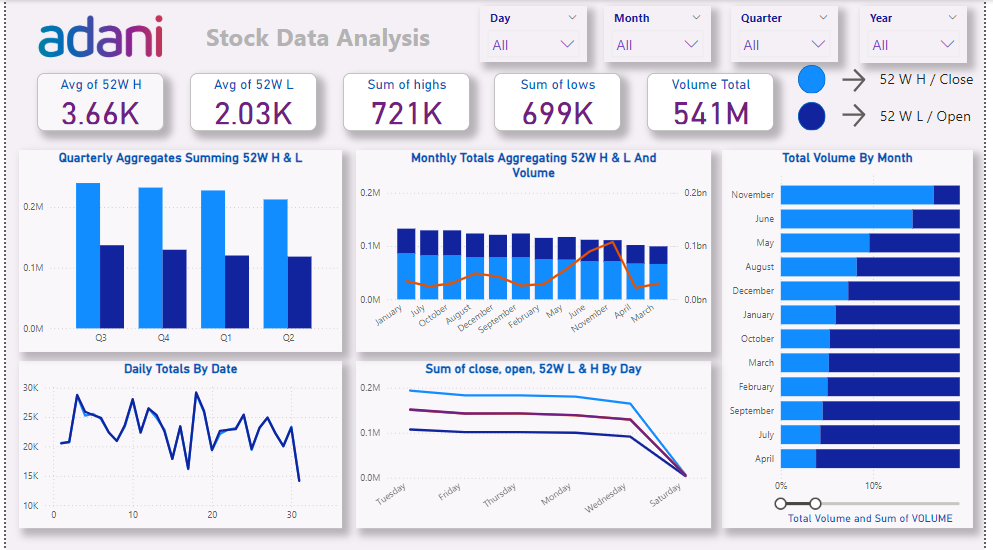

What the dashboard file says about the page in this screenshot:
{"tool":"powerbi","page":{"name":"Adani Dashboard","canvas":[1280,720],"ordinal":0},"visuals":[{"type":"slicer","fields":{"Values":["Modified Adani.Day"]},"box":[620.6,7.2,139.7,73.4],"z":0},{"type":"slicer","fields":{"Values":["Modified Adani.Month"]},"box":[783.4,7.2,139.7,73.4],"z":1000},{"type":"slicer","fields":{"Values":["Modified Adani.Quarter"]},"box":[949,7.2,139.7,73.4],"z":2000},{"type":"slicer","fields":{"Values":["Modified Adani.Year"]},"box":[1117.4,7.2,140,74],"z":3000},{"type":"card","title":"Avg of 52W H","fields":{"Values":["Meaures.Avg of 52 week high"]},"box":[40.3,95,165.6,76.3],"z":4000},{"type":"card","title":"Avg of 52W L","fields":{"Values":["Meaures.Avg of 52W low"]},"box":[240.5,95,165.6,76.3],"z":5000},{"type":"card","title":"Sum of highs","fields":{"Values":["Meaures.Sum Of Highs"]},"box":[440.6,95,165.6,76.3],"z":6000},{"type":"card","title":"Sum of lows","fields":{"Values":["Meaures.Sum Of Lows"]},"box":[639.4,95,165.6,76.3],"z":7000},{"type":"card","title":"Volume Total","fields":{"Values":["Meaures.Total Volume"]},"box":[839.5,95,165.6,76.3],"z":8000},{"type":"clusteredColumnChart","title":"Quarterly Aggregates Summing 52W H & L","fields":{"Category":["Meaures.Quarter"],"Y":["Sum(Meaures.52W H )","Sum(Meaures.52W L )"]},"box":[17.3,195.8,423.4,263.5],"z":9000},{"type":"lineStackedColumnComboChart","title":"Monthly Totals Aggregating 52W H & L And Volume ","fields":{"Y":["Sum(Modified Adani.52W H )","Sum(Modified Adani.52W L )"],"Y2":["Meaures.Total Volume"],"Category":["Modified Adani.Month"]},"box":[457.9,195.8,465.1,263.5],"z":10000},{"type":"image","box":[36,0,174.2,95],"z":11000},{"type":"textbox","box":[174.2,20.2,433.4,64.8],"z":12000},{"type":"lineChart","title":"Daily Totals By Date","fields":{"Y":["Sum(Modified Adani.close )","Sum(Modified Adani.OPEN )"],"Category":["Modified Adani.Date .Variation.Date Hierarchy.Day"]},"box":[17.3,472.3,423.4,218.9],"z":13000},{"type":"hundredPercentStackedBarChart","title":"Total Volume By Month","fields":{"Category":["Modified Adani.Month"],"Y":["Meaures.Total Volume","Sum(Meaures.VOLUME )"]},"box":[937.4,195.8,328.3,495.4],"z":14000},{"type":"lineChart","title":"Sum of close, open, 52W L & H By Day","fields":{"Y":["Sum(Modified Adani.52W H )","Sum(Modified Adani.52W L )","Sum(Modified Adani.close )","Sum(Modified Adani.OPEN )"],"Category":["Modified Adani.Day"]},"box":[457.9,472.3,465.1,218.9],"z":15000},{"type":"shape","box":[1036.8,85,36,37.4],"z":16000},{"type":"shape","box":[1036.8,133.9,36,37.4],"z":17000},{"type":"actionButton","box":[1088.6,85,99.4,40.3],"z":18000},{"type":"actionButton","box":[1088.6,131,99.4,40.3],"z":19000},{"type":"textbox","box":[1117.4,85,162.7,46.1],"z":20000},{"type":"textbox","box":[1139,133.9,141.1,37.4],"z":21000}]}

Visuals, with their boxes in screenshot pixels (x1, y1, x2, y2), scaled from the page's 1280x720 canvas onto the 993x550 screenshot:
slicer - Modified Adani.Day: box(481, 6, 590, 62)
slicer - Modified Adani.Month: box(608, 6, 716, 62)
slicer - Modified Adani.Quarter: box(736, 6, 845, 62)
slicer - Modified Adani.Year: box(867, 6, 975, 62)
"Avg of 52W H" card: box(31, 73, 160, 131)
"Avg of 52W L" card: box(187, 73, 315, 131)
"Sum of highs" card: box(342, 73, 470, 131)
"Sum of lows" card: box(496, 73, 625, 131)
"Volume Total" card: box(651, 73, 780, 131)
"Quarterly Aggregates Summing 52W H & L" clusteredColumnChart: box(13, 150, 342, 351)
"Monthly Totals Aggregating 52W H & L And Volume " lineStackedColumnComboChart: box(355, 150, 716, 351)
image: box(28, 0, 163, 73)
textbox: box(135, 15, 471, 65)
"Daily Totals By Date" lineChart: box(13, 361, 342, 528)
"Total Volume By Month" hundredPercentStackedBarChart: box(727, 150, 982, 528)
"Sum of close, open, 52W L & H By Day" lineChart: box(355, 361, 716, 528)
shape: box(804, 65, 832, 94)
shape: box(804, 102, 832, 131)
actionButton: box(845, 65, 922, 96)
actionButton: box(845, 100, 922, 131)
textbox: box(867, 65, 992, 100)
textbox: box(884, 102, 992, 131)
